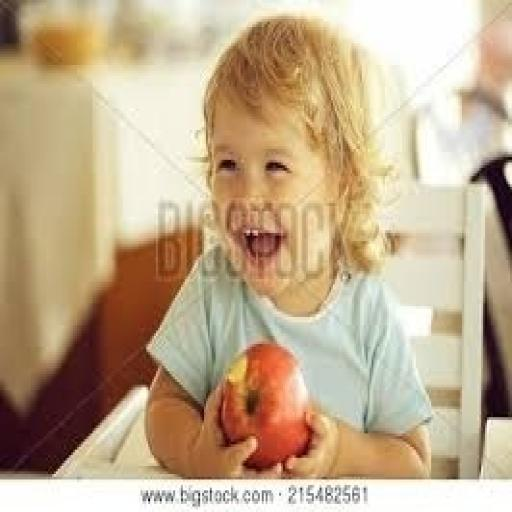laughing: (141, 8, 435, 477)
